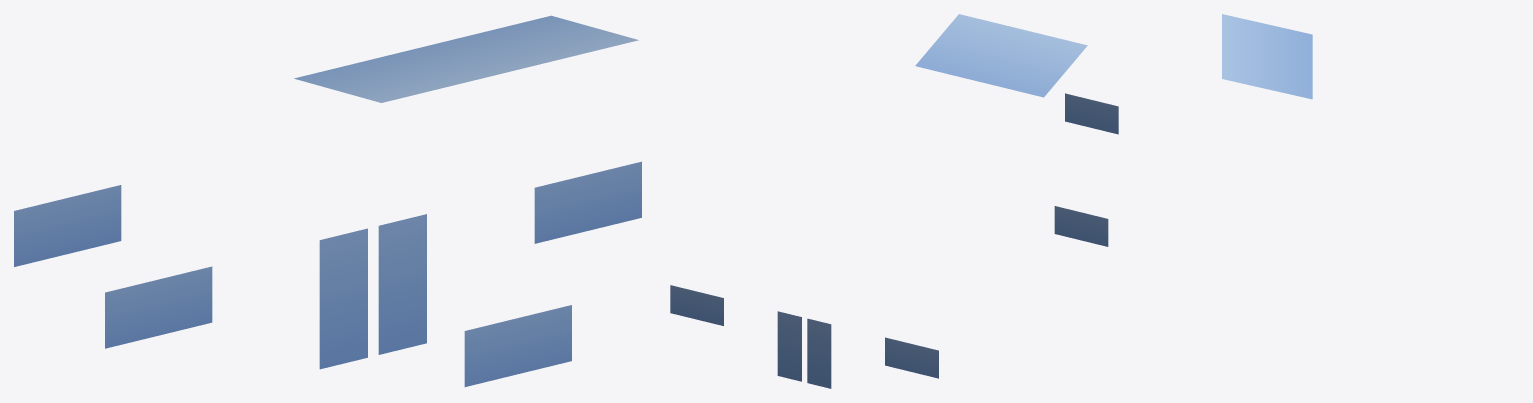
The model's file is 033_3_1_building-t_1.glb.
3 renders of one model, left to right at view 1: azimuth 30°, elevation 25°; view 2: azimuth 150°, elevation 25°; view 3: azimuth 270°, elevation 25°, orthographic. The views are drawn at different scales.
Parts seen in each view (by area): view 1: 3_1_building-t_1; view 2: 3_1_building-t_1; view 3: 3_1_building-t_1.
Boxes of the visible parts, x1,y1,x2,y2 form: 3_1_building-t_1: (14,15,641,386); 3_1_building-t_1: (670,14,1118,388); 3_1_building-t_1: (1222,14,1312,99).
Bounding box in the file's own units: 1.4 × 0.946 × 1.16.
Materials: 1 (1 with a texture image).
